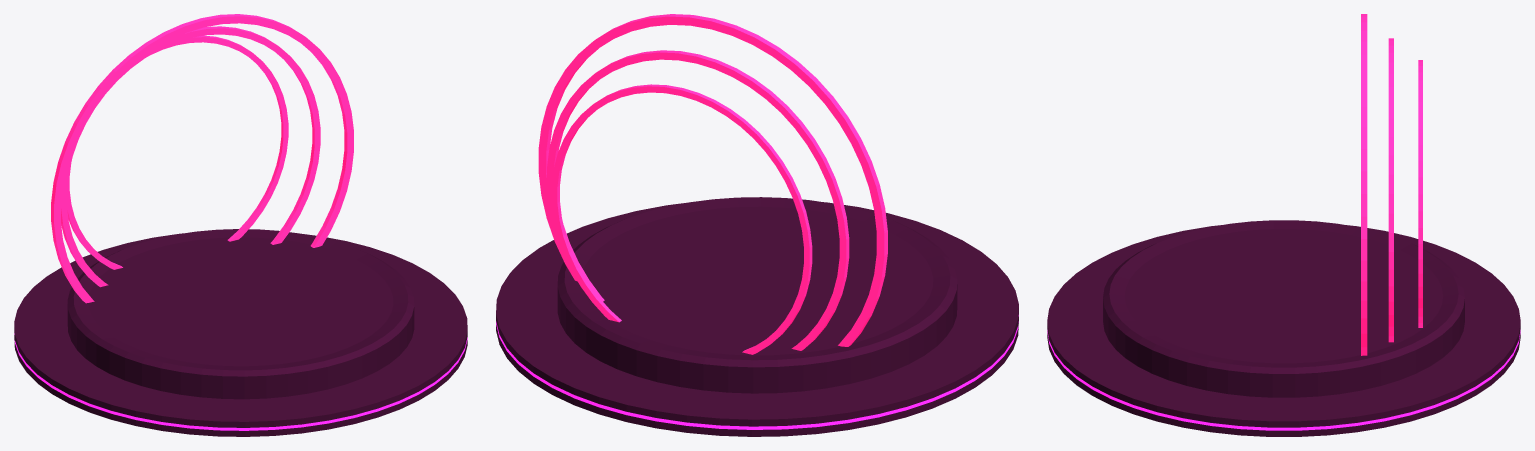
The model's file is sceneReev.glb.
The picture shows the model from 3 angles, left to right: view 1: azimuth 30°, elevation 25°; view 2: azimuth 150°, elevation 25°; view 3: azimuth 270°, elevation 25°; orthographic projection. The views are drawn at different scales.
Visible parts, largest first — view 1: Cylinder.004, Cylinder.002, Ring Light.001, Ring Light.002, Cylinder.001, Ring Light.003, Ring Light; view 2: Cylinder.004, Cylinder.002, Ring Light.001, Ring Light.002, Ring Light.003, Cylinder.001, Ring Light; view 3: Cylinder.004, Cylinder.002, Cylinder.001, Ring Light.001, Ring Light.002, Ring Light, Ring Light.003.
Part boxes in pixels (bbox=[...]): Cylinder.004: bbox=[67, 229, 414, 399]; Cylinder.002: bbox=[14, 233, 467, 427]; Ring Light.001: bbox=[51, 14, 353, 303]; Ring Light.002: bbox=[61, 26, 320, 287]; Cylinder.001: bbox=[14, 335, 467, 436]; Ring Light.003: bbox=[67, 35, 288, 269]; Ring Light: bbox=[14, 333, 467, 430]; Cylinder.004: bbox=[557, 197, 957, 393]; Cylinder.002: bbox=[496, 202, 1018, 426]; Ring Light.001: bbox=[538, 14, 887, 346]; Ring Light.002: bbox=[547, 50, 849, 350]; Ring Light.003: bbox=[551, 84, 812, 354]; Cylinder.001: bbox=[496, 317, 1018, 436]; Ring Light: bbox=[496, 315, 1018, 429]; Cylinder.004: bbox=[1103, 220, 1464, 397]; Cylinder.002: bbox=[1047, 225, 1520, 427]; Cylinder.001: bbox=[1047, 332, 1520, 436]; Ring Light.001: bbox=[1361, 14, 1367, 355]; Ring Light.002: bbox=[1388, 38, 1393, 342]; Ring Light: bbox=[1047, 330, 1520, 430]; Ring Light.003: bbox=[1418, 60, 1422, 327].
Bounding box in the file's own units: 3.39 × 2.6 × 3.4.
